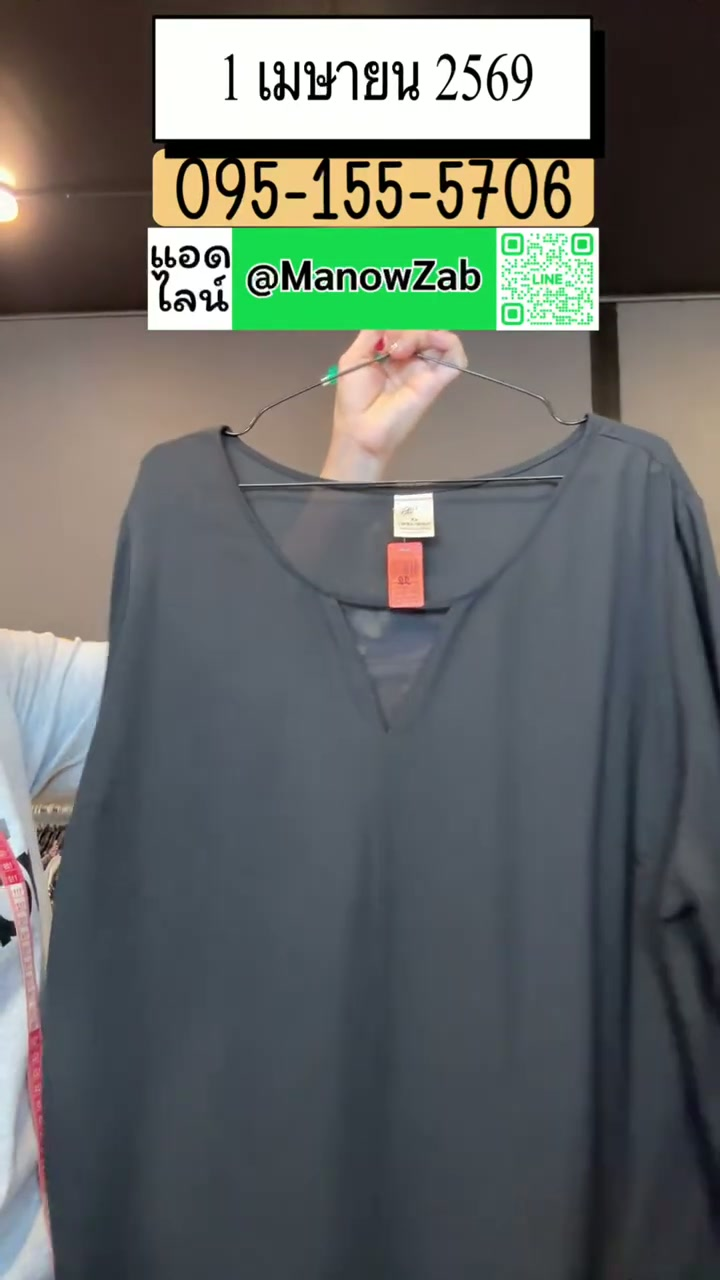display_shirt: (45, 416, 719, 1279)
